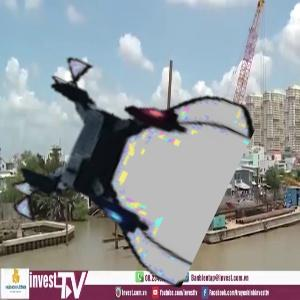drone: (17, 57, 230, 270)
